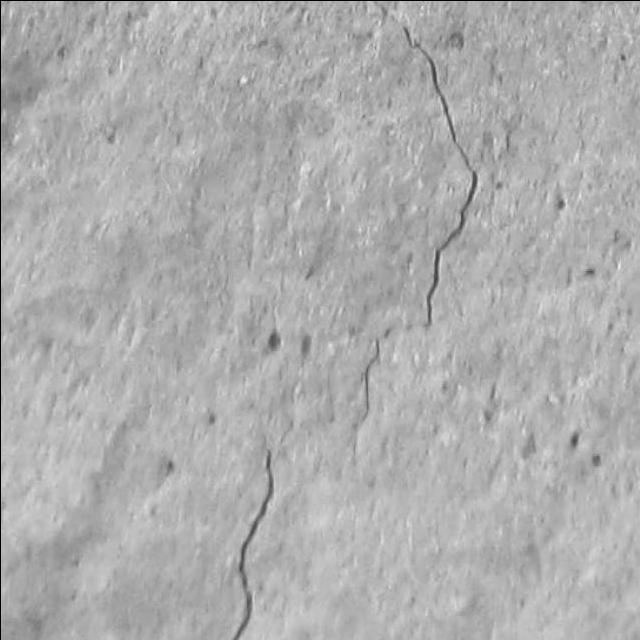SurfaceCrack: (313, 0, 507, 630)
